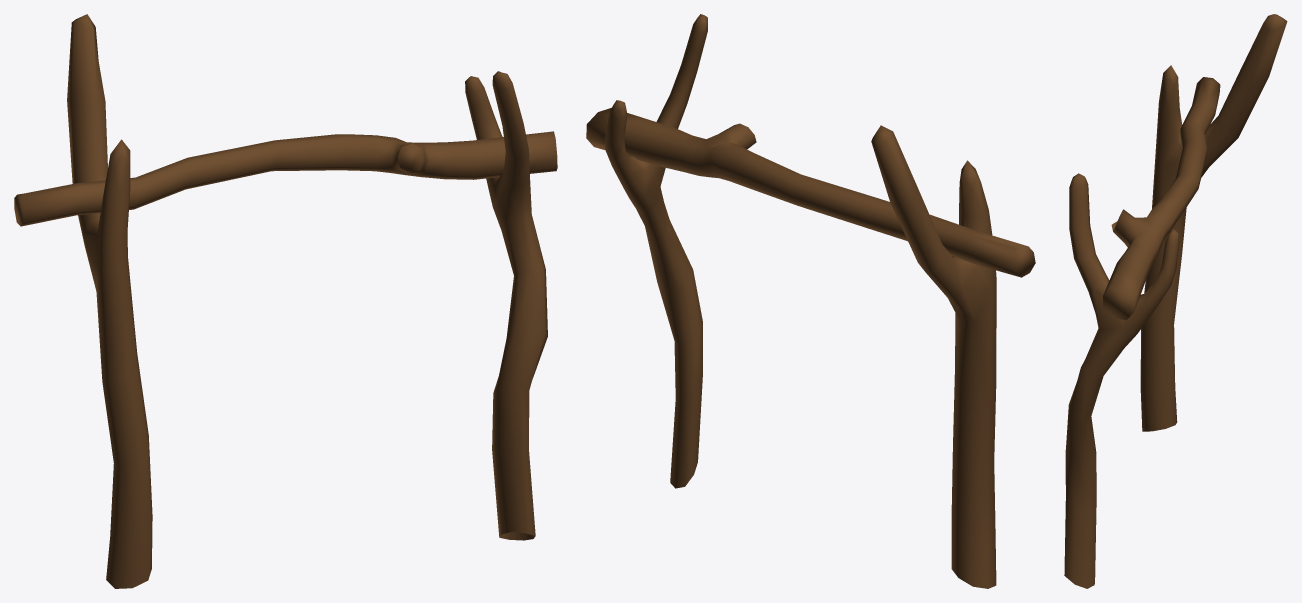
Rendered from cooknench.fbx.
3 renders of one model, left to right at view 1: azimuth 30°, elevation 25°; view 2: azimuth 150°, elevation 25°; view 3: azimuth 270°, elevation 25°, orthographic. The views are drawn at different scales.
Visible parts, largest first — view 1: BirchTree_Dead_3.001; view 2: BirchTree_Dead_3.001; view 3: BirchTree_Dead_3.001.
Boxes of the visible parts, <box> form: BirchTree_Dead_3.001: <box>14,14,557,588</box>; BirchTree_Dead_3.001: <box>586,14,1035,588</box>; BirchTree_Dead_3.001: <box>1064,14,1287,588</box>.
Size of the model in its own units: 286 by 291 by 133.
